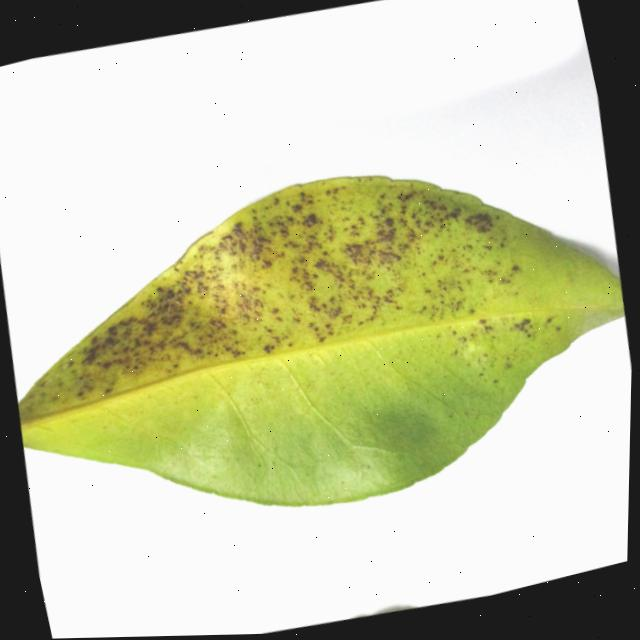melanose: (18, 175, 623, 505)
